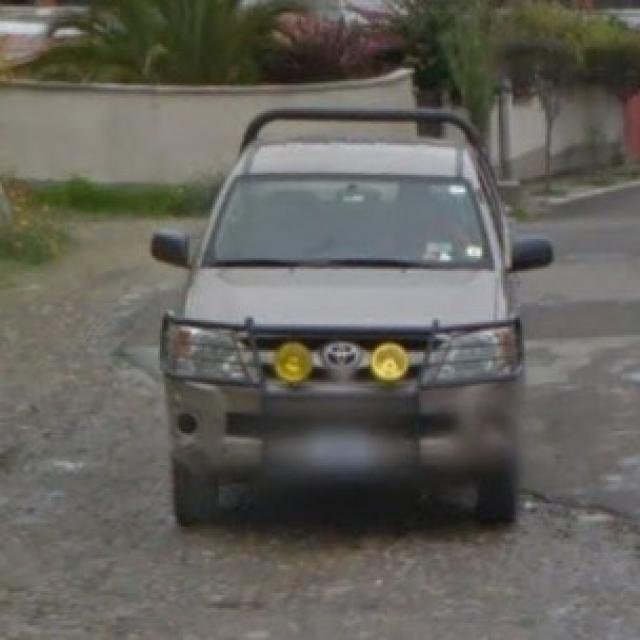Car: (169, 133, 531, 522)
